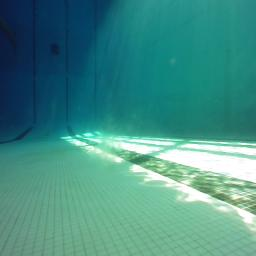Full: (50, 44, 62, 55)
